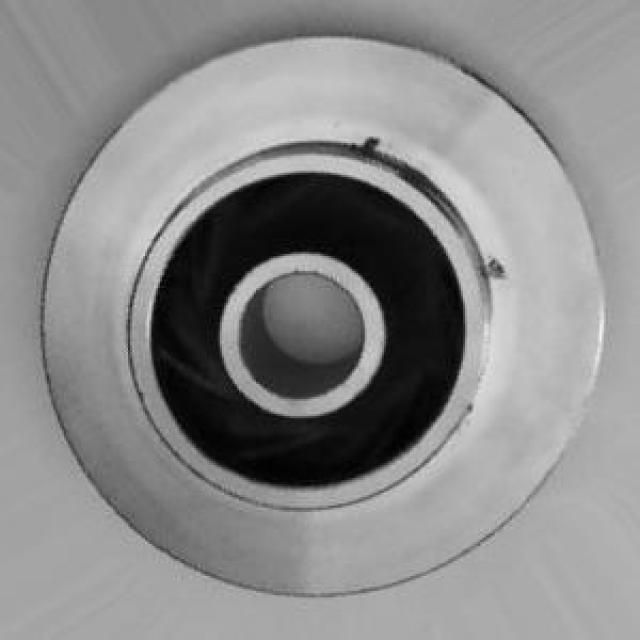Defect: (477, 249, 512, 289), (354, 130, 388, 160)
